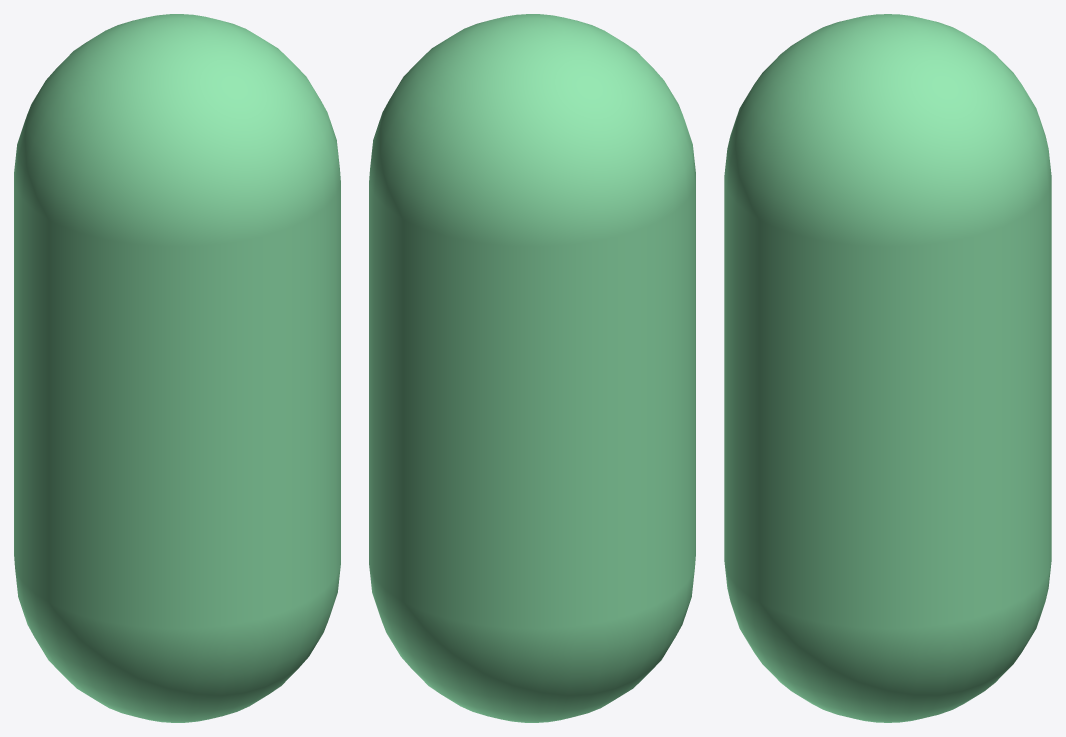
3 views of the same model, side by side, from view 1: azimuth 30°, elevation 25°; view 2: azimuth 150°, elevation 25°; view 3: azimuth 270°, elevation 25° (orthographic).
Visible parts, largest first — view 1: capsule; view 2: capsule; view 3: capsule.
Boxes of the visible parts, x1,y1,x2,y2 form: capsule: [14, 14, 340, 722]; capsule: [369, 14, 695, 722]; capsule: [724, 14, 1051, 722].
Bounding box in the file's own units: 0.7 × 1.6 × 0.7.
